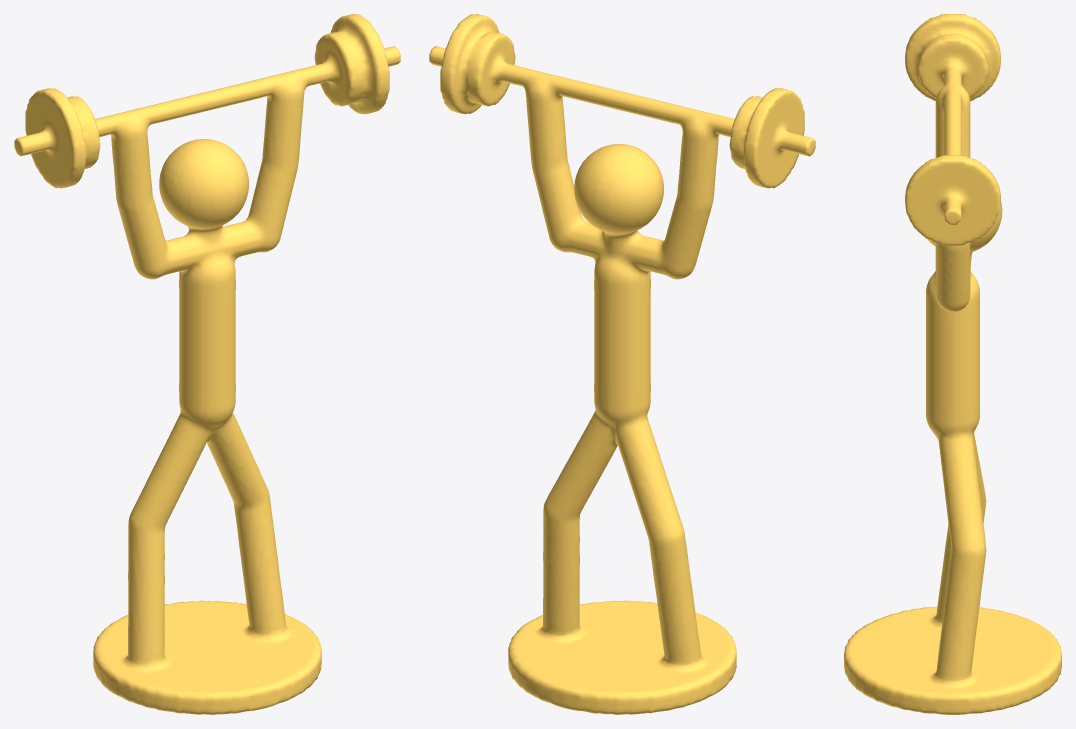
File: lifting.glb
3 renders of one model, left to right at view 1: azimuth 30°, elevation 25°; view 2: azimuth 150°, elevation 25°; view 3: azimuth 270°, elevation 25°, orthographic. The views are drawn at different scales.
Visible parts, largest first — view 1: lifting; view 2: lifting; view 3: lifting.
Boxes of the visible parts, left/top/right/bottom form: lifting: left=14, top=14, right=400, bottom=714; lifting: left=429, top=14, right=815, bottom=714; lifting: left=844, top=14, right=1061, bottom=714.
Bounding box in the file's own units: 1.3 × 2.01 × 0.679.
